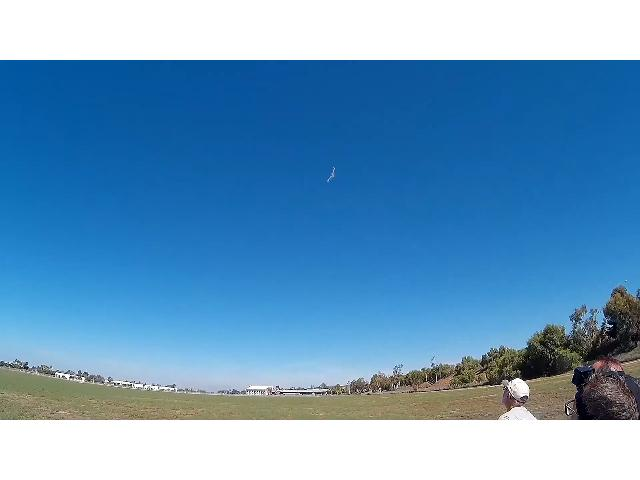Anti-Drone: (327, 168, 335, 182)
